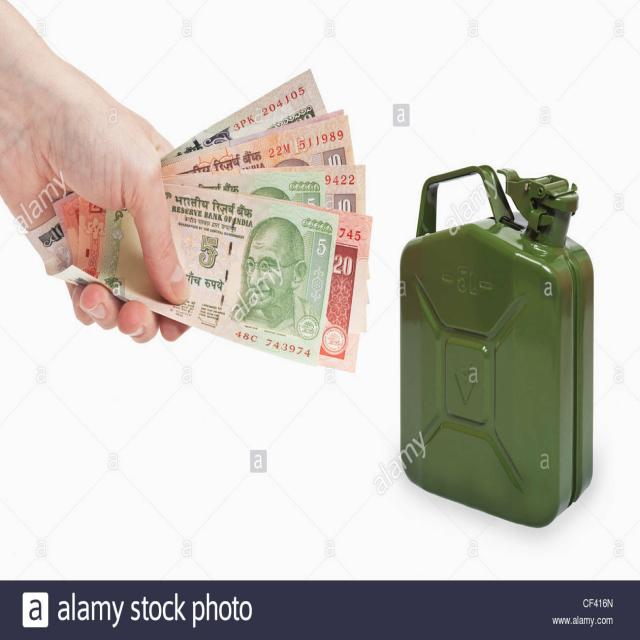5IndianRupees: (94, 199, 334, 354)
